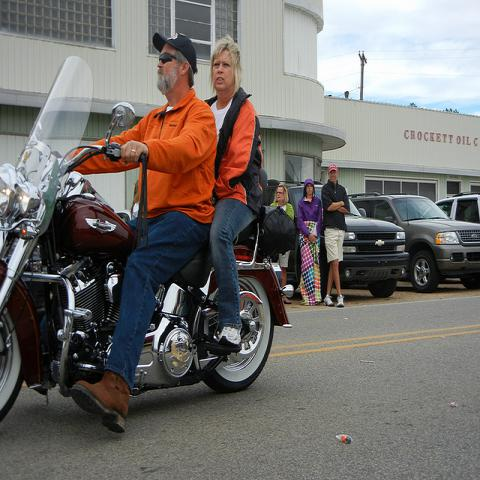car: (348, 192, 480, 290), (337, 200, 407, 299), (434, 192, 480, 227), (114, 209, 132, 224)
motorcycle: (0, 57, 296, 422)
truck: (266, 178, 410, 298), (349, 188, 479, 294)
